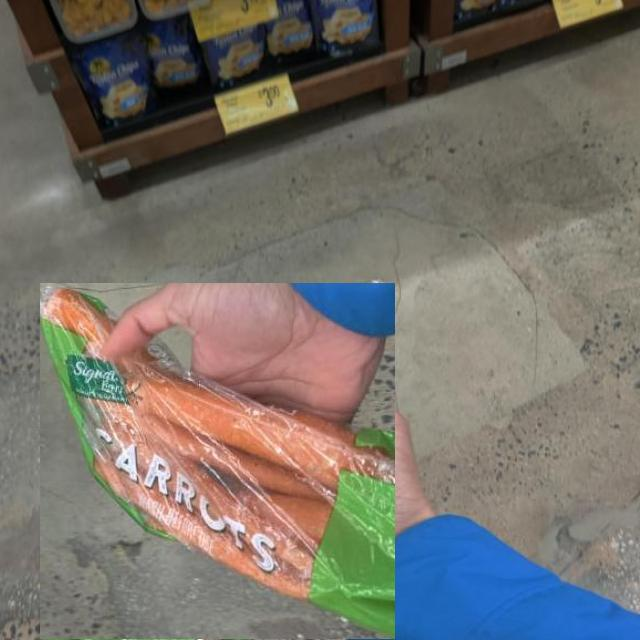Carrots: (40, 283, 395, 640)
